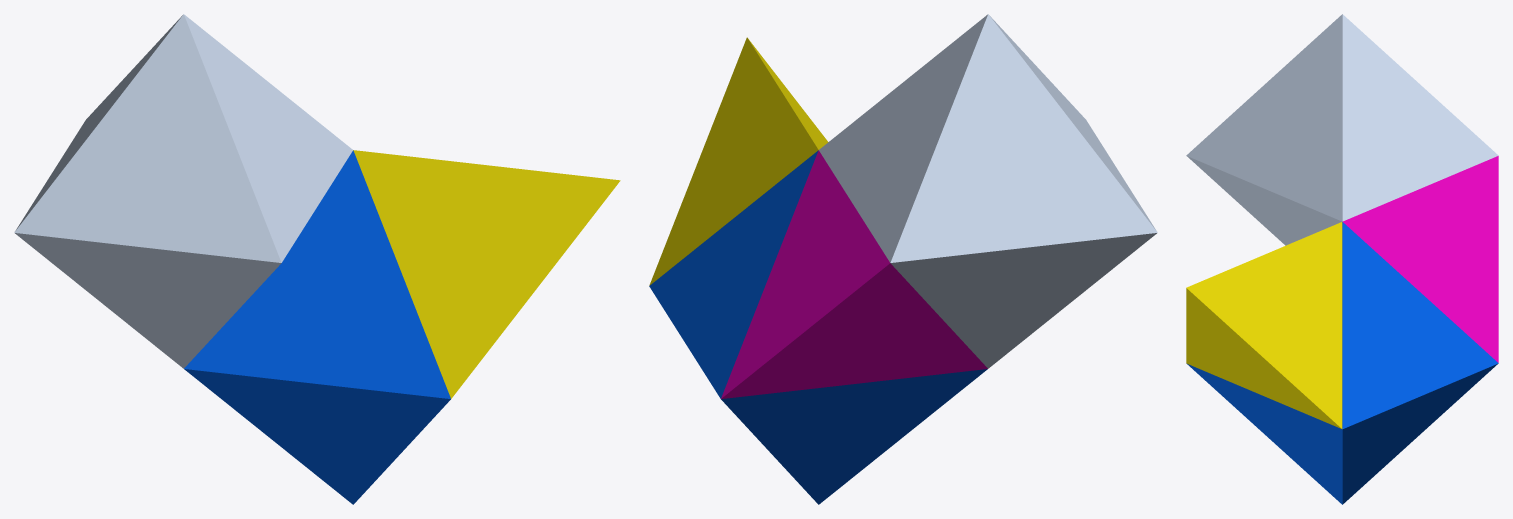
File: octTet_3.glb
The picture shows the model from 3 angles, left to right: view 1: azimuth 30°, elevation 25°; view 2: azimuth 150°, elevation 25°; view 3: azimuth 270°, elevation 25°; orthographic projection. The views are drawn at different scales.
Size of the model in its own units: 6 by 6 by 4.
